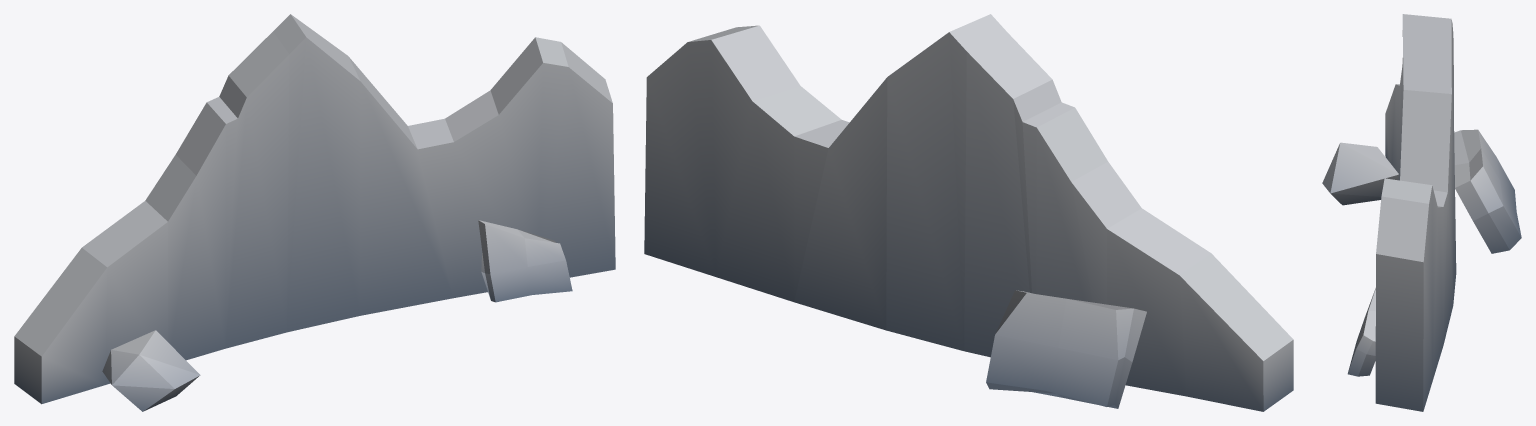
Rendered from Wall Ruin 2.fbx.
3 views of the same model, side by side, from view 1: azimuth 30°, elevation 25°; view 2: azimuth 150°, elevation 25°; view 3: azimuth 270°, elevation 25° (orthographic). The views are drawn at different scales.
Visible parts, largest first — view 1: Broken Wall 2; view 2: Broken Wall 2; view 3: Broken Wall 2.
Part boxes in pixels (box(x1,y1,x2,y2)): Broken Wall 2: box(14, 14, 615, 411); Broken Wall 2: box(644, 14, 1293, 411); Broken Wall 2: box(1322, 14, 1521, 411).
Bounding box in the file's own units: 792 × 384 × 261.
